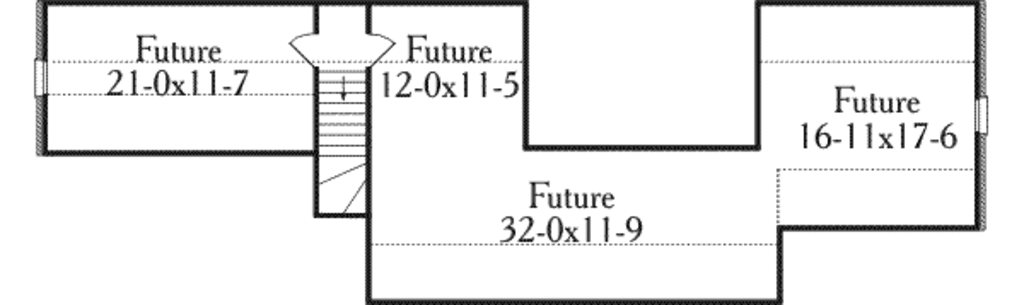door: (287, 26, 323, 68), (368, 29, 399, 76)
stairs: (313, 65, 376, 220)
window: (971, 93, 993, 132), (35, 57, 46, 97)
